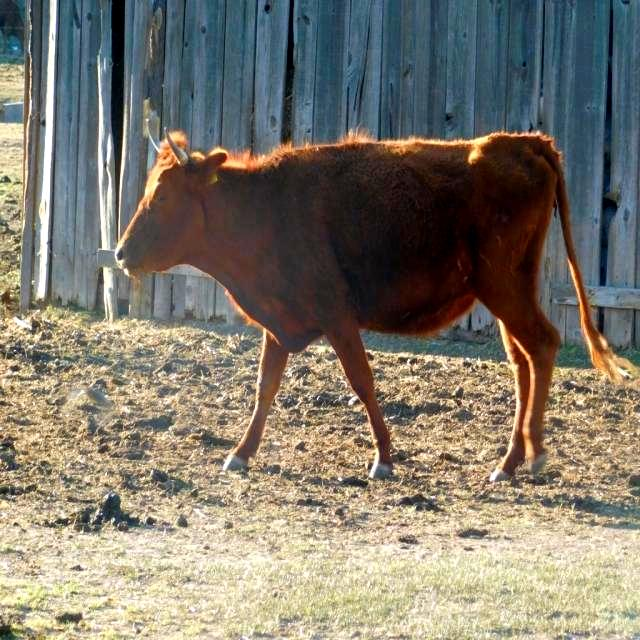COW: (115, 132, 628, 480)
